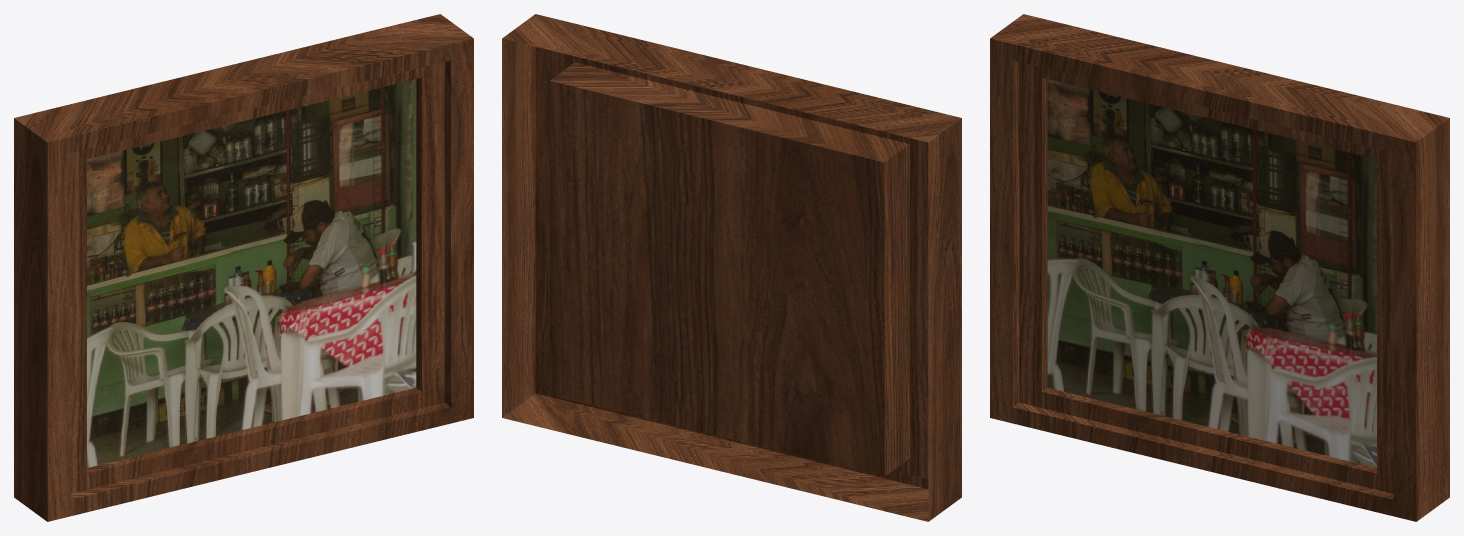
Rendered from PROP_quadro_2.glb.
3 renders of one model, left to right at view 1: azimuth 30°, elevation 25°; view 2: azimuth 150°, elevation 25°; view 3: azimuth 330°, elevation 25°, orthographic.
Visible parts, largest first — view 1: Cube.003, Cube.002; view 2: Cube.002; view 3: Cube.003, Cube.002.
Boxes of the visible parts, x1=… form: Cube.003: x1=87, y1=79, x2=416, y2=467; Cube.002: x1=14, y1=14, x2=473, y2=521; Cube.002: x1=502, y1=14, x2=961, y2=521; Cube.003: x1=1047, y1=79, x2=1376, y2=467; Cube.002: x1=990, y1=14, x2=1449, y2=521.
Bounding box in the file's own units: 0.665 × 0.5653 × 0.0906.
Materials: 2 (2 with a texture image).
